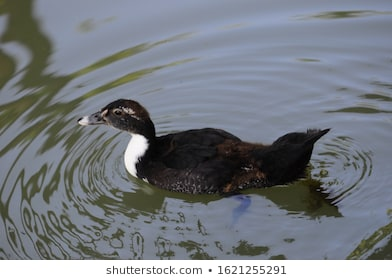duck: (49, 90, 333, 206)
